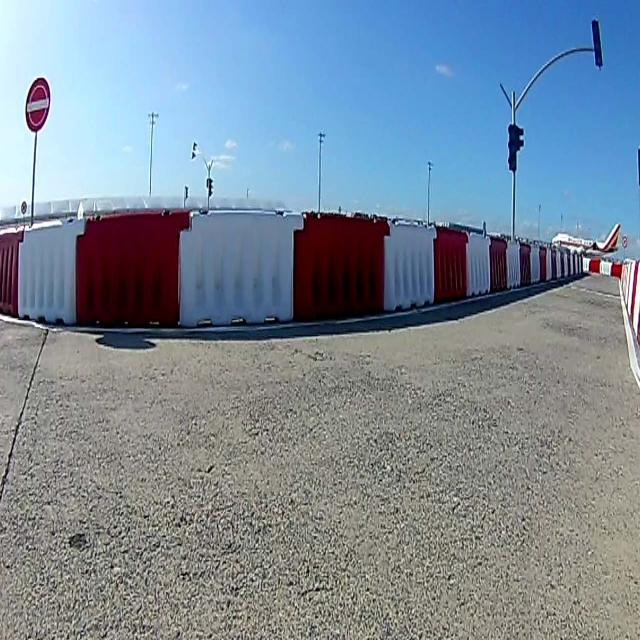girisyok: (26, 78, 51, 132)
